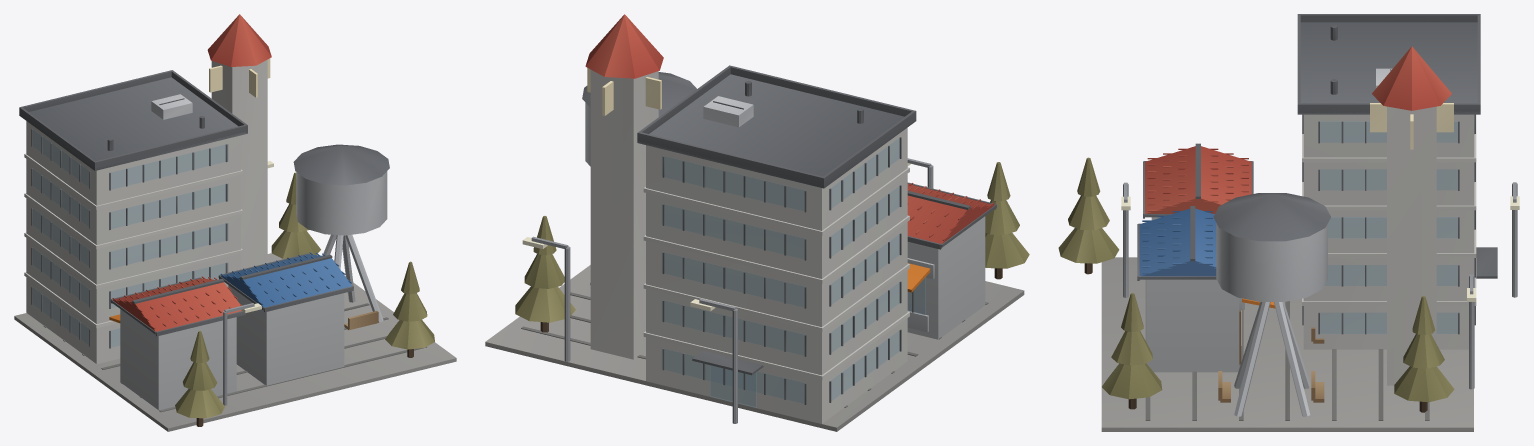
The model's file is Civic_P3.fbx.
The picture shows the model from 3 angles, left to right: view 1: azimuth 30°, elevation 25°; view 2: azimuth 150°, elevation 25°; view 3: azimuth 270°, elevation 25°; orthographic projection. The views are drawn at different scales.
Visible parts, largest first — view 1: Civic.Hall, Civic.Shop1, Civic.Shop0, Civic.Plaza, Civic.WaterTower, Civic.Tower, Civic.Tree2, Civic.Tree1, Civic.Tree0, Civic.Paving, Civic.Lamp0, Civic.Benches; view 2: Civic.Hall, Civic.Tower, Civic.Plaza, Civic.Shop0, Civic.Tree0, Civic.Tree2, Civic.WaterTower, Civic.Lamp1, Civic.Lamp2; view 3: Civic.Hall, Civic.Plaza, Civic.Tower, Civic.WaterTower, Civic.Shop1, Civic.Shop0, Civic.Tree2, Civic.Tree0, Civic.Tree1, Civic.Paving, Civic.Benches, Civic.Lamp0 (+2 smaller).
Part boxes in pixels (x1,y1,x2,y2): Civic.Hall: (19,70,247,363); Civic.Shop1: (218,252,353,385); Civic.Shop0: (109,276,245,410); Civic.Plaza: (14,253,456,431); Civic.WaterTower: (293,144,389,322); Civic.Tower: (207,14,271,269); Civic.Tree2: (175,331,224,426); Civic.Tree1: (385,261,434,357); Civic.Tree0: (271,172,320,258); Civic.Paving: (43,303,426,412); Civic.Lamp0: (223,303,261,405); Civic.Benches: (344,311,378,330); Civic.Hall: (637,65,916,423); Civic.Tower: (585,14,663,359); Civic.Plaza: (485,265,1024,431); Civic.Shop0: (907,182,996,339); Civic.Tree0: (515,216,575,332); Civic.Tree2: (985,162,1029,279); Civic.WaterTower: (582,72,696,284); Civic.Lamp1: (522,236,570,361); Civic.Lamp2: (690,299,737,423); Civic.Hall: (1297,14,1497,349); Civic.Plaza: (1101,257,1473,431); Civic.Tower: (1370,46,1453,385); Civic.WaterTower: (1213,193,1330,416); Civic.Shop1: (1137,206,1275,372); Civic.Shop0: (1143,143,1253,309); Civic.Tree2: (1058,157,1119,274); Civic.Tree0: (1394,296,1454,412); Civic.Tree1: (1102,293,1162,409); Civic.Paving: (1145,280,1429,420); Civic.Benches: (1218,327,1324,402); Civic.Lamp0: (1121,182,1130,297).
Bounding box in the file's own units: 2600 × 2371 × 2970.
